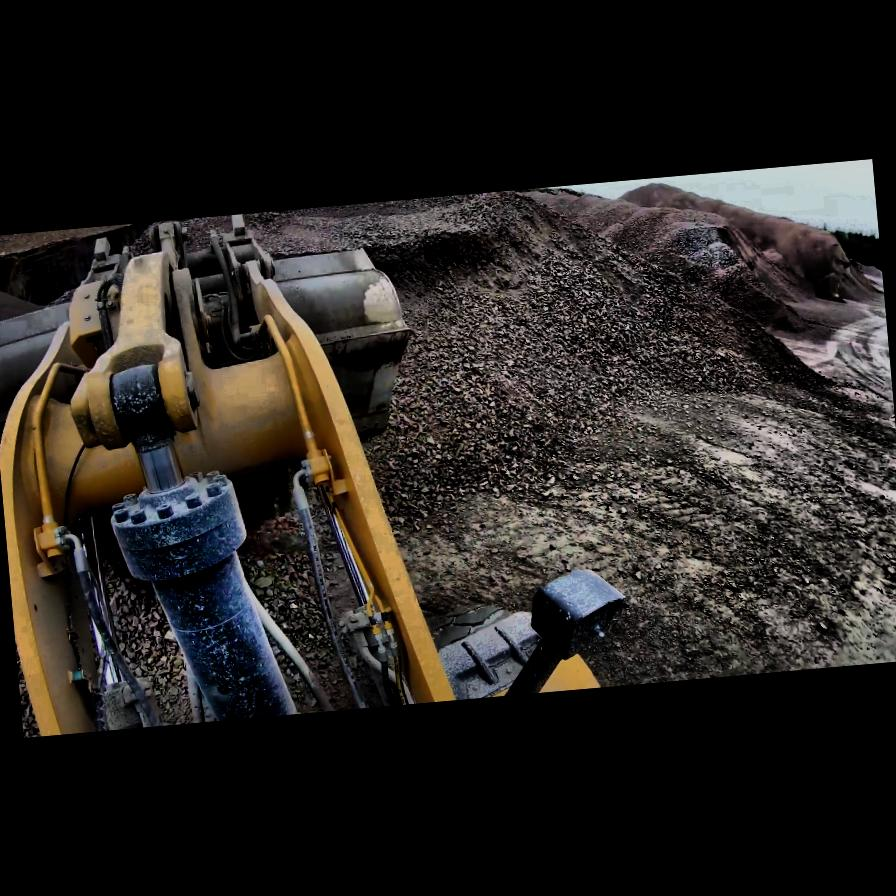anchor: (75, 335, 193, 453)
pile of gravel: (0, 158, 896, 737), (404, 164, 839, 498), (610, 162, 886, 335)
